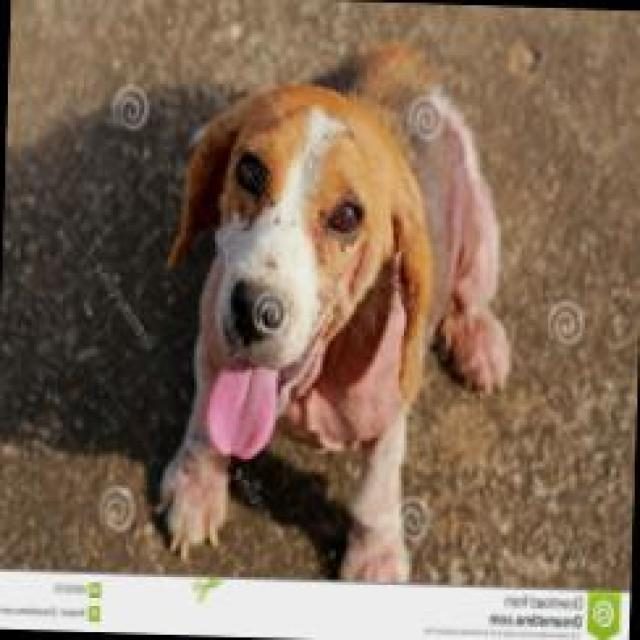allergic dermatitis: (323, 347, 399, 445), (294, 383, 338, 442)
